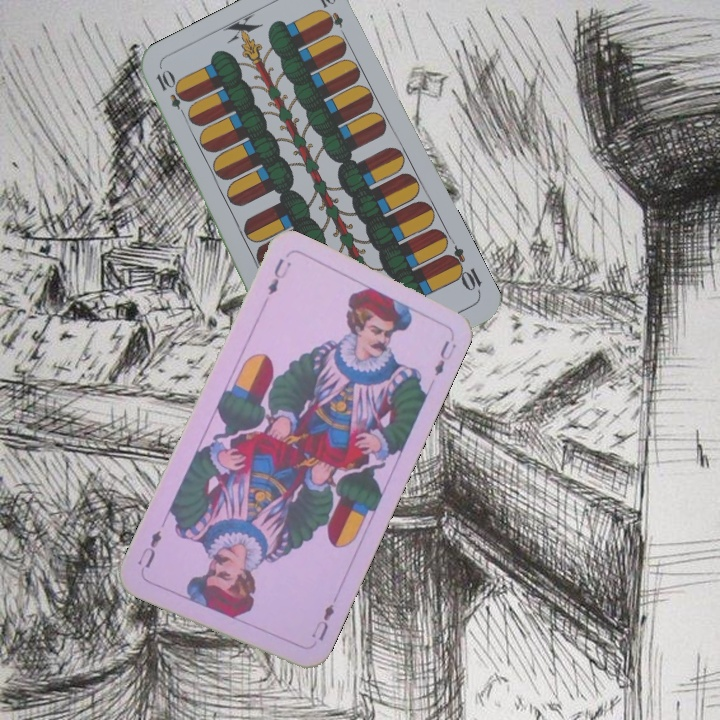E10: (441, 242, 485, 297), (152, 66, 192, 122)
EU: (306, 599, 337, 644), (263, 254, 293, 298)
